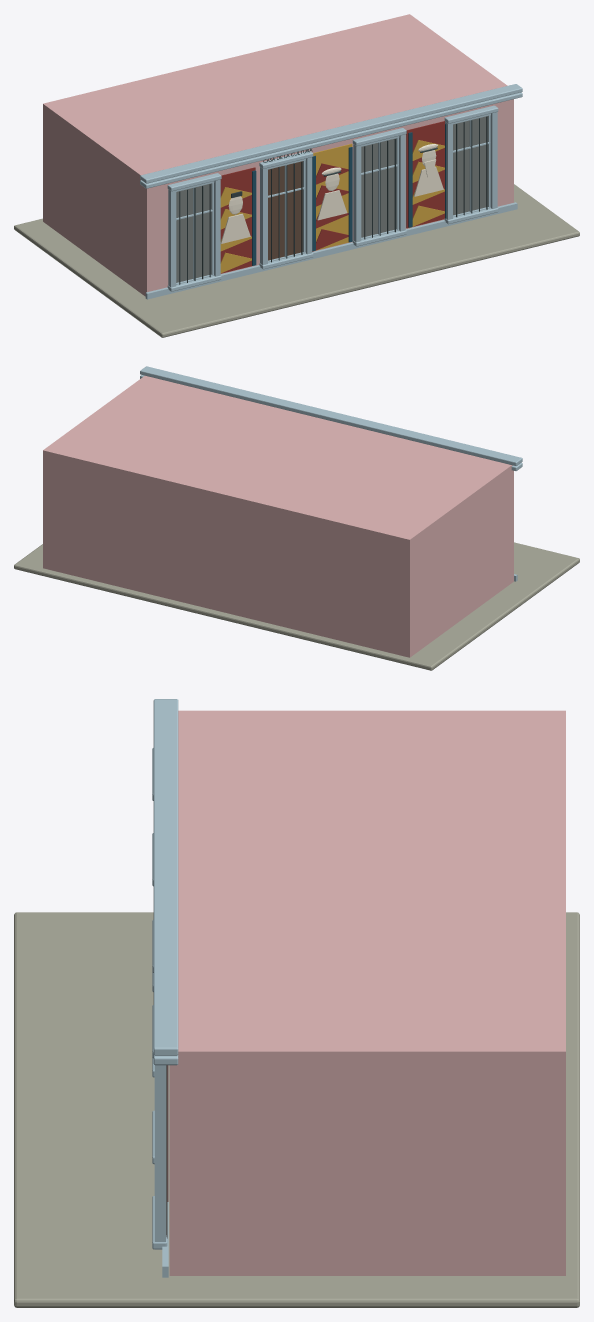
The model's file is gms-27.glb.
3 views of the same model, one above another, from view 1: azimuth 30°, elevation 25°; view 2: azimuth 150°, elevation 25°; view 3: azimuth 270°, elevation 25° (orthographic). The views are drawn at different scales.
Parts seen in each view (by area): view 1: One-storey rose cultural centre, Context plinth, Very tall rectangular cultural opening jamb, Very tall rectangular cultural opening recess, Three coloured mural fields, Original mural geometric rhythm, Very tall rectangular cultural opening iron bar, Very tall rectangular cultural opening recess.001, Simplified portrait medallion, Blue mural vertical field; view 2: One-storey rose cultural centre, Context plinth, Very tall rectangular cultural opening jamb; view 3: One-storey rose cultural centre, Context plinth, Very tall rectangular cultural opening jamb.
Part boxes in pixels (bbox=[...]): One-storey rose cultural centre: bbox=[43, 14, 513, 296]; Context plinth: bbox=[14, 184, 579, 337]; Very tall rectangular cultural opening jamb: bbox=[140, 84, 522, 299]; Very tall rectangular cultural opening recess: bbox=[176, 116, 488, 282]; Three coloured mural fields: bbox=[220, 121, 444, 273]; Original mural geometric rhythm: bbox=[220, 140, 444, 273]; Very tall rectangular cultural opening iron bar: bbox=[179, 116, 487, 284]; Very tall rectangular cultural opening recess.001: bbox=[268, 161, 302, 260]; Simplified portrait medallion: bbox=[220, 144, 443, 243]; Blue mural vertical field: bbox=[252, 124, 446, 265]; One-storey rose cultural centre: bbox=[43, 375, 513, 657]; Context plinth: bbox=[14, 542, 579, 670]; Very tall rectangular cultural opening jamb: bbox=[140, 366, 522, 581]; One-storey rose cultural centre: bbox=[169, 710, 565, 1275]; Context plinth: bbox=[14, 912, 579, 1307]; Very tall rectangular cultural opening jamb: bbox=[152, 699, 178, 1277].
Bounding box in the file's own units: 13 × 3.76 × 8.
